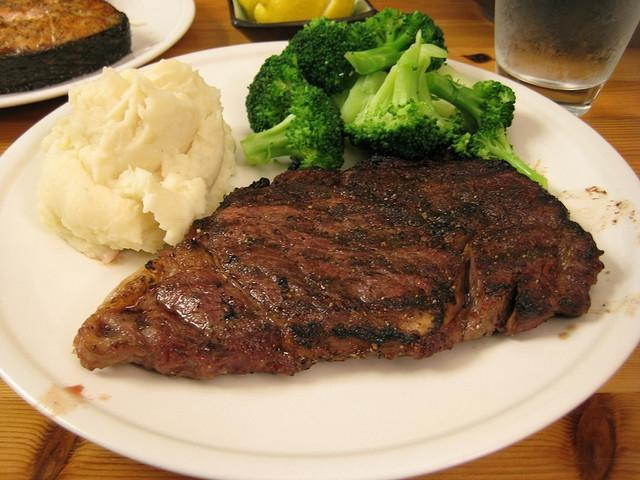broccoli: (334, 28, 465, 162), (240, 82, 344, 172), (280, 16, 377, 96), (344, 8, 448, 76), (468, 116, 548, 190), (426, 72, 517, 132)
